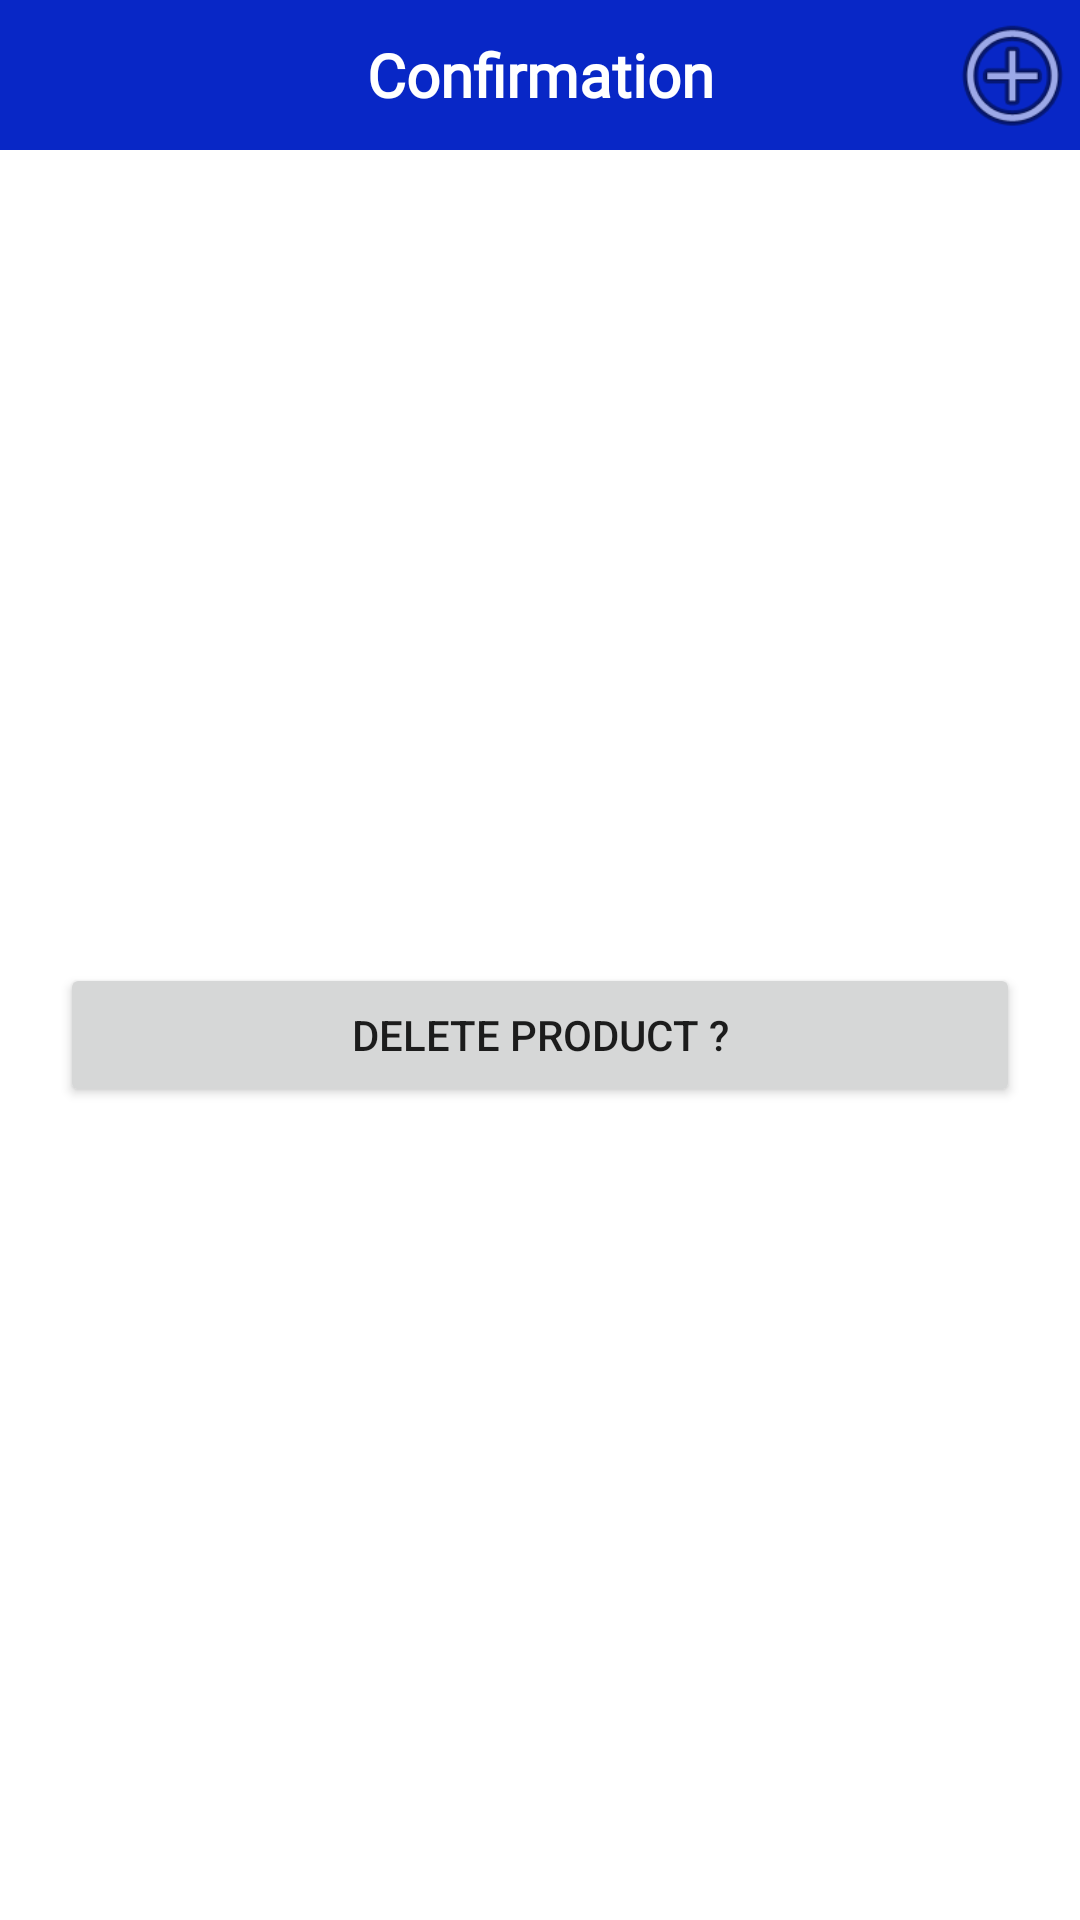

Point at icon controls on the screen. Image size 1080 × 1920, points as [x,y].
add: [1012,76]
